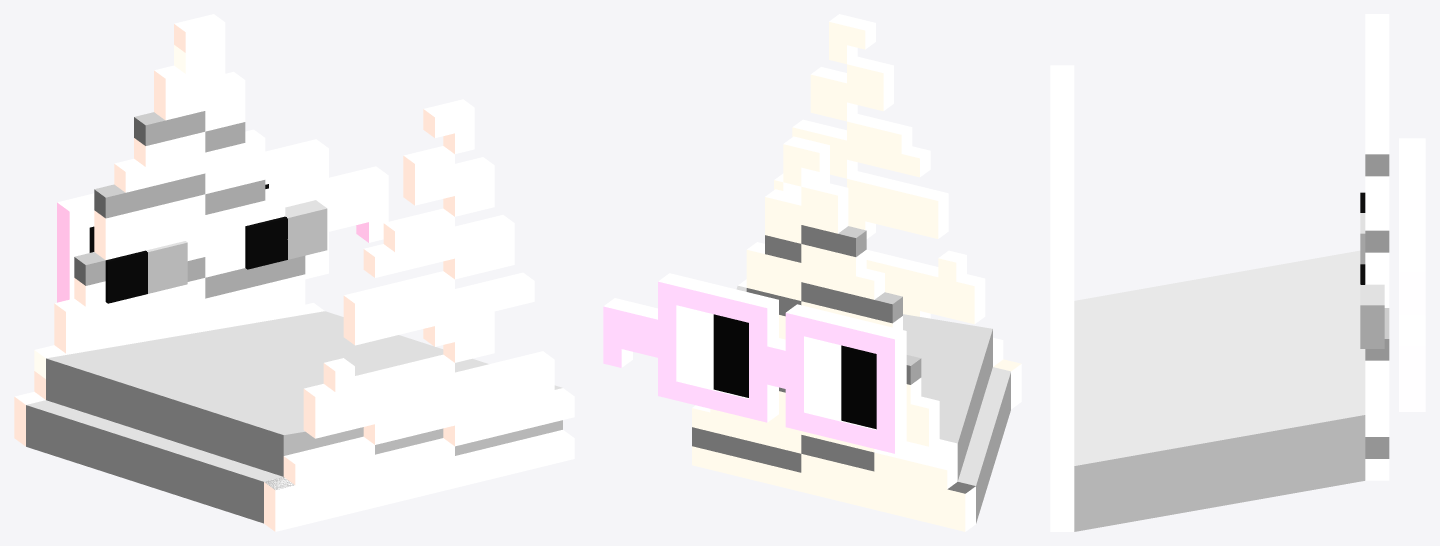
Rendered from trout.glb.
The picture shows the model from 3 angles, left to right: view 1: azimuth 30°, elevation 25°; view 2: azimuth 150°, elevation 25°; view 3: azimuth 270°, elevation 25°; orthographic projection. The views are drawn at different scales.
Parts seen in each view (by area): view 1: Cube.007, Cube, Cube.018, Plane.004, eyes-Local, Cube.010, Cube.015, Cube.011, Cube.014, Cube.006, Cube.009, Cube.004 (+2 smaller); view 2: Cube.018, Plane.004, Cube.007, Cube, Cube.004, Cube.001, Cube.003, Cube.010, Cube.016, Cube.011, Cube.017, Cube.005 (+2 smaller); view 3: Cube, Cube.007, Cube.018, Plane.004, eyes-Local, Cube.008, Cube.009, Cube.014, Cube.016, Cube.015.
Boxes of the visible parts, bbox=[...] form: Cube.007: bbox=[264, 99, 574, 531]; Cube: bbox=[26, 311, 562, 523]; Cube.018: bbox=[14, 14, 324, 446]; Plane.004: bbox=[57, 139, 388, 302]; eyes-Local: bbox=[105, 200, 327, 303]; Cube.010: bbox=[94, 173, 205, 218]; Cube.015: bbox=[205, 255, 305, 298]; Cube.011: bbox=[134, 111, 205, 145]; Cube.014: bbox=[205, 180, 265, 214]; Cube.006: bbox=[74, 252, 105, 285]; Cube.009: bbox=[205, 122, 245, 152]; Cube.004: bbox=[269, 174, 308, 258]; Cube.018: bbox=[692, 136, 975, 531]; Plane.004: bbox=[603, 273, 906, 453]; Cube.007: bbox=[738, 14, 1021, 409]; Cube: bbox=[736, 286, 1010, 523]; Cube.004: bbox=[677, 305, 841, 420]; Cube.001: bbox=[713, 314, 748, 397]; Cube.003: bbox=[841, 345, 876, 429]; Cube.010: bbox=[801, 282, 902, 323]; Cube.016: bbox=[692, 427, 801, 472]; Cube.011: bbox=[801, 225, 866, 256]; Cube.017: bbox=[801, 435, 874, 471]; Cube.005: bbox=[874, 439, 957, 469]; Cube: bbox=[1074, 250, 1365, 531]; Cube.007: bbox=[1050, 65, 1074, 531]; Cube.018: bbox=[1365, 14, 1389, 480]; Plane.004: bbox=[1399, 138, 1425, 411]; eyes-Local: bbox=[1360, 192, 1384, 348]; Cube.008: bbox=[1365, 78, 1389, 100]; Cube.009: bbox=[1365, 154, 1389, 176]; Cube.014: bbox=[1365, 230, 1389, 252]; Cube.016: bbox=[1365, 437, 1389, 458]; Cube.015: bbox=[1365, 308, 1389, 360].
Size of the model in its own units: 20 by 18 by 15.5.
8 materials, 1 textured.
